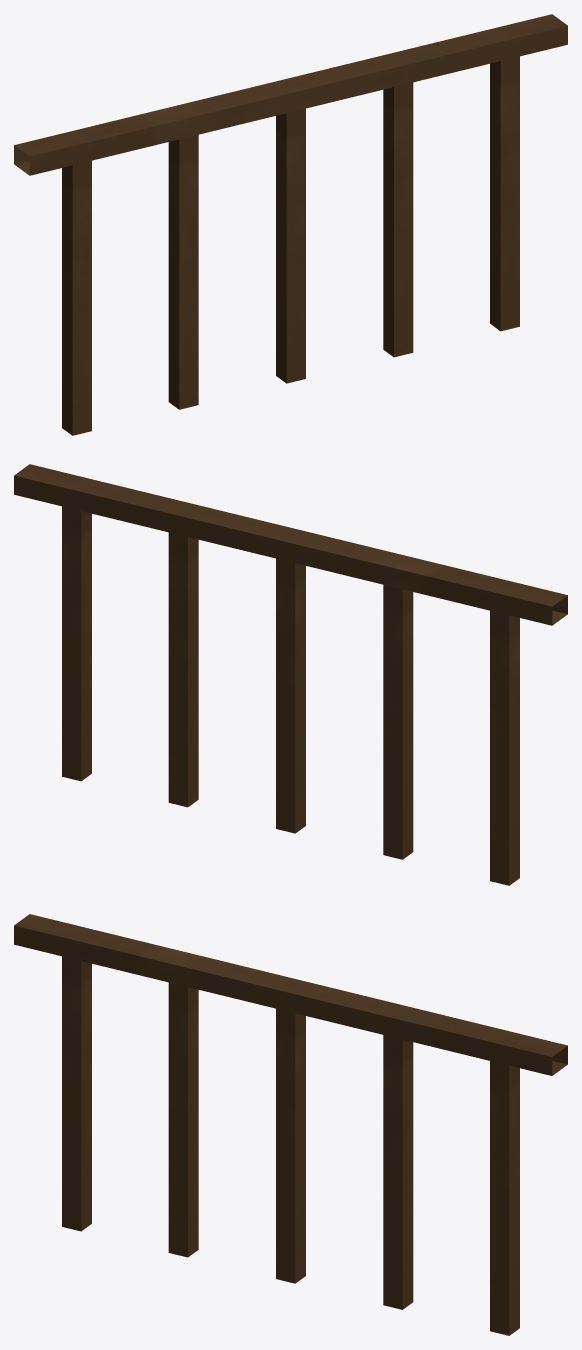
File: handrail1.fbx
The picture shows the model from 3 angles, top to bottom: view 1: azimuth 30°, elevation 25°; view 2: azimuth 150°, elevation 25°; view 3: azimuth 330°, elevation 25°; orthographic projection.
Visible parts, largest first — view 1: polySurface944; view 2: polySurface944; view 3: polySurface944.
Part boxes in pixels (x1,y1,x2,y2): polySurface944: (14,14,567,435); polySurface944: (14,464,567,885); polySurface944: (14,914,567,1335).
Bounding box in the file's own units: 191 × 98.78 × 9.69.
